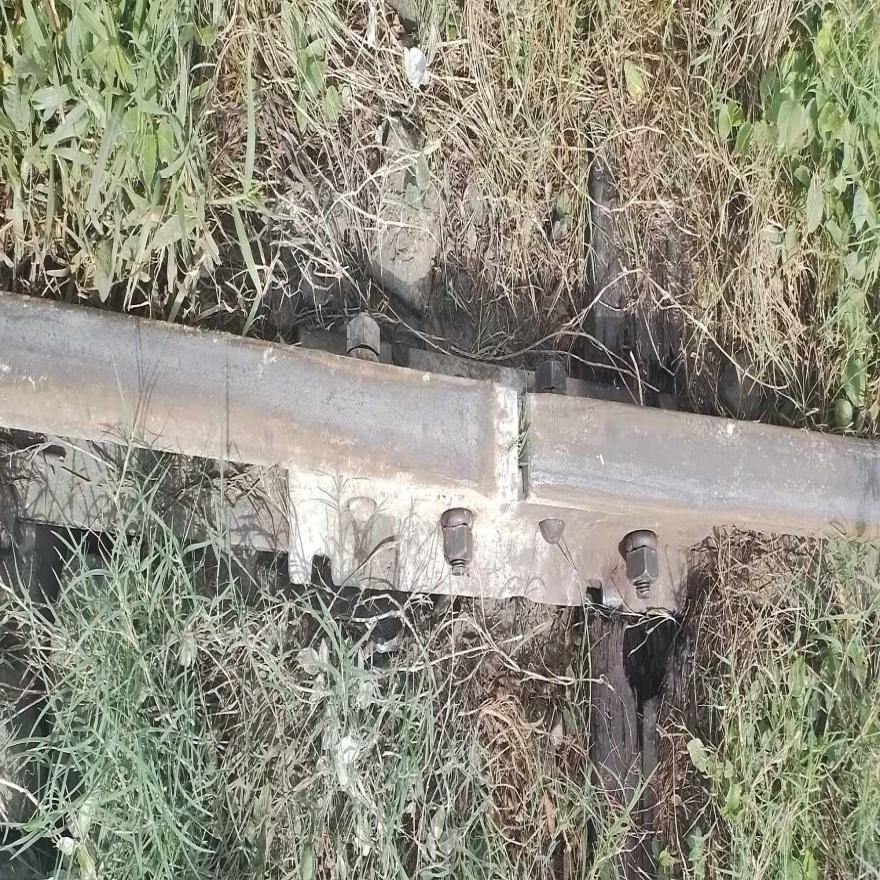railway-gap: (476, 338, 561, 550)
